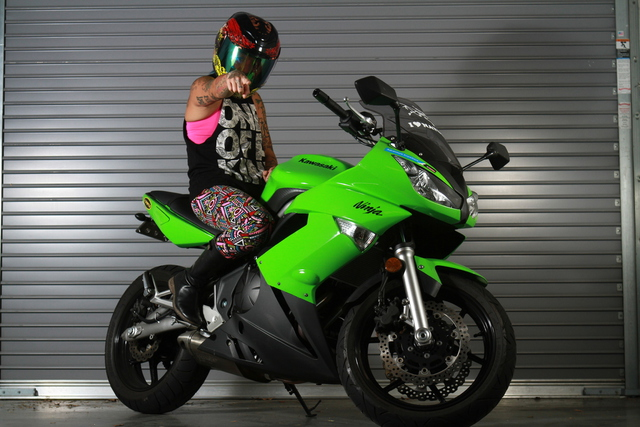helmet: (213, 12, 283, 92)
